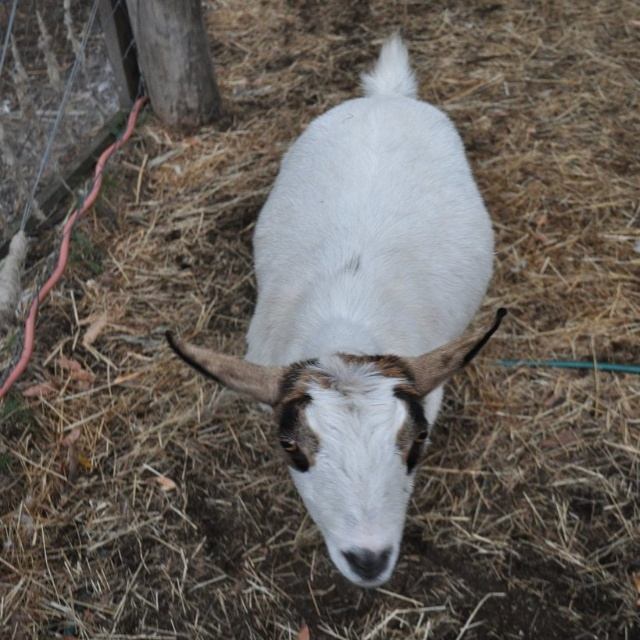Goat: (166, 29, 508, 590)
